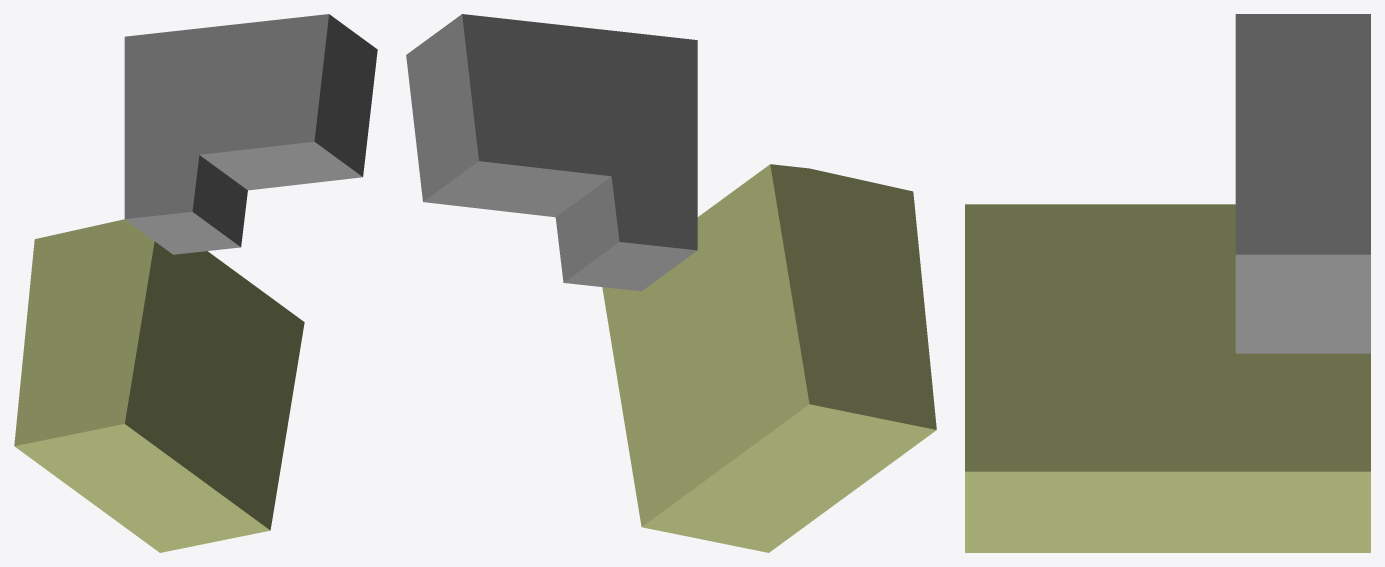
3 views of the same model, side by side, from view 1: azimuth 30°, elevation 25°; view 2: azimuth 150°, elevation 25°; view 3: azimuth 270°, elevation 25° (orthographic). The views are drawn at different scales.
Visible parts, largest first — view 1: 0_1_0_0_1_2_3_0_0_1_2; view 2: 0_1_0_0_1_2_3_0_0_1_2; view 3: 0_1_0_0_1_2_3_0_0_1_2.
Boxes of the visible parts, box(x1,y1,x2,y2) form: 0_1_0_0_1_2_3_0_0_1_2: box(14, 14, 377, 552); 0_1_0_0_1_2_3_0_0_1_2: box(406, 14, 936, 552); 0_1_0_0_1_2_3_0_0_1_2: box(965, 14, 1370, 552).
Size of the model in its own units: 11.22 by 13.19 by 9.
